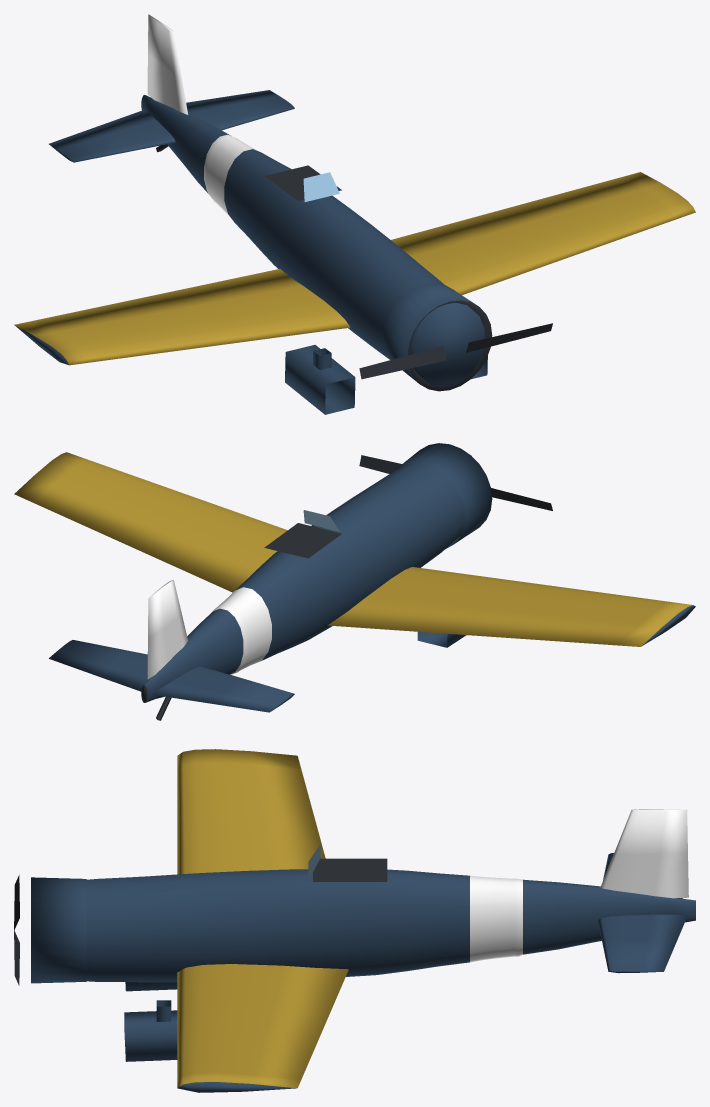
3 renders of one model, top to bottom at view 1: azimuth 30°, elevation 25°; view 2: azimuth 150°, elevation 25°; view 3: azimuth 270°, elevation 25°, orthographic. The views are drawn at different scales.
Visible parts, largest first — view 1: body, prop; view 2: body, prop; view 3: body, prop.
Boxes of the visible parts, left/top/right/bottom form: body: left=14, top=14, right=695, bottom=414; prop: left=359, top=323, right=552, bottom=379; body: left=14, top=443, right=695, bottom=720; prop: left=359, top=455, right=552, bottom=510; body: left=31, top=749, right=695, bottom=1092; prop: left=14, top=875, right=19, bottom=985.
Bounding box in the file's own units: 8.5 × 2.49 × 7.36.
